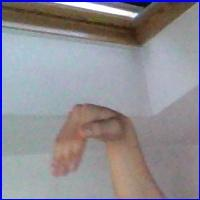del: (56, 98, 139, 184)
